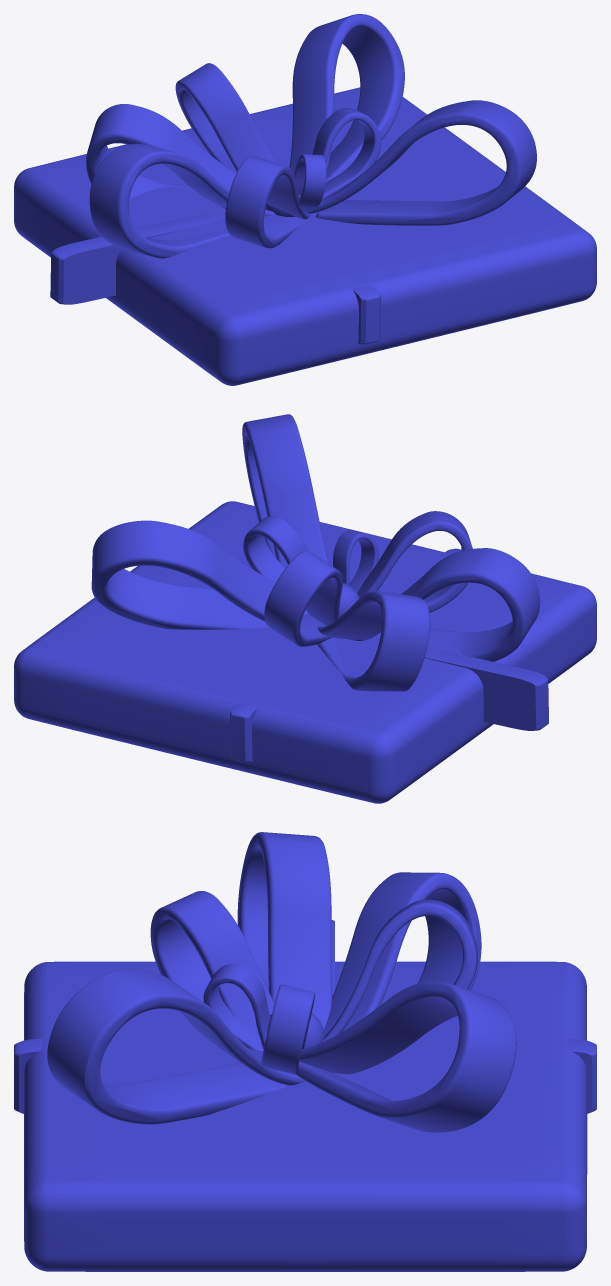
The model's file is misc_07.glb.
3 views of the same model, one above another, from view 1: azimuth 30°, elevation 25°; view 2: azimuth 150°, elevation 25°; view 3: azimuth 270°, elevation 25° (orthographic). The views are drawn at different scales.
Parts seen in each view (by area): view 1: cover, bow; view 2: cover, bow; view 3: cover, bow.
Boxes of the visible parts, box(x1,y1,x2,y2) form: cover: box(14, 87, 596, 385); bow: box(50, 14, 536, 344); cover: box(14, 501, 596, 803); bow: box(91, 414, 548, 762); cover: box(24, 961, 587, 1271); bow: box(14, 832, 596, 1132).
Bounding box in the file's own units: 1.31 × 0.5464 × 1.18.
